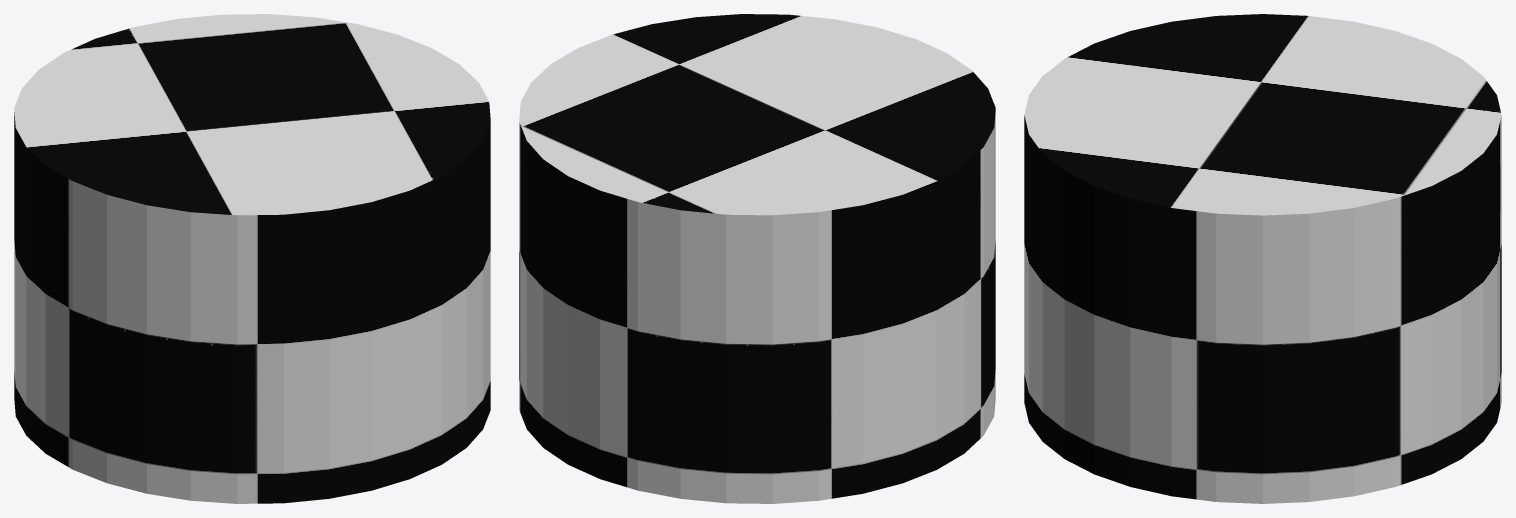
The model's file is wheel_texture.dae.
3 renders of one model, left to right at view 1: azimuth 30°, elevation 25°; view 2: azimuth 150°, elevation 25°; view 3: azimuth 270°, elevation 25°, orthographic.
Parts seen in each view (by area): view 1: Cylinder.008; view 2: Cylinder.008; view 3: Cylinder.008.
Boxes of the visible parts, x1,y1,x2,y2 form: Cylinder.008: (14,14,490,503); Cylinder.008: (519,14,995,503); Cylinder.008: (1024,14,1501,503).
Bounding box in the file's own units: 0.15 × 0.15 × 0.1.
1 material, 1 textured.
